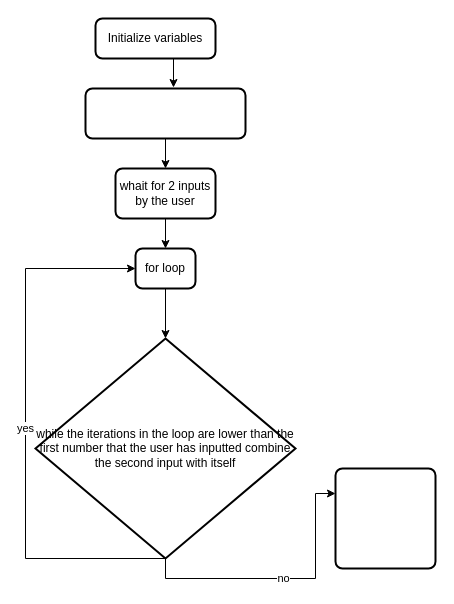
This 454x604 diagram has some shape labels left out. Each missing label, with the centre of its shape:
"Display message of the calculated result" goes at point (385, 518).
"Message the user to input 2 numbers" goes at point (165, 113).
